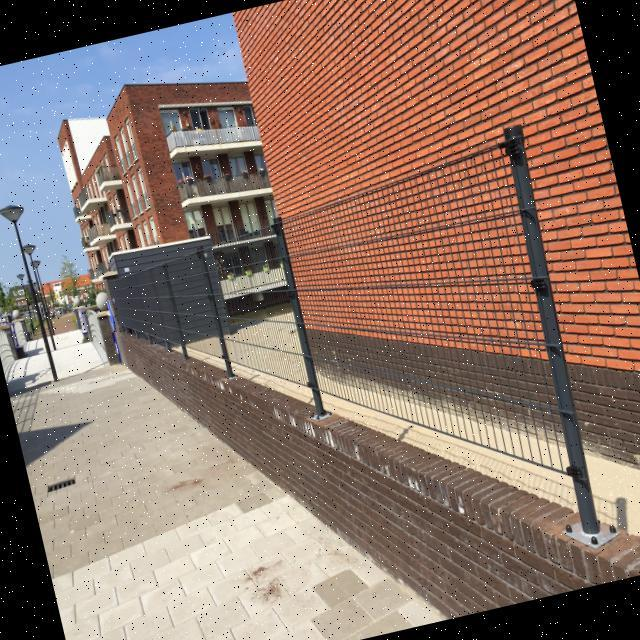fence line: (263, 139, 572, 464), (155, 222, 334, 396), (102, 268, 197, 350)
